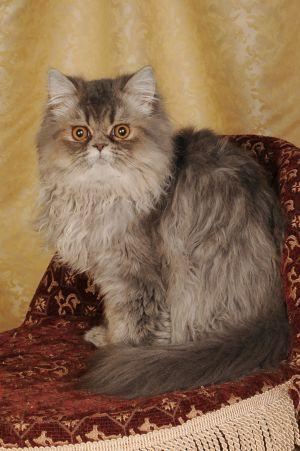persian: (34, 58, 177, 190)
